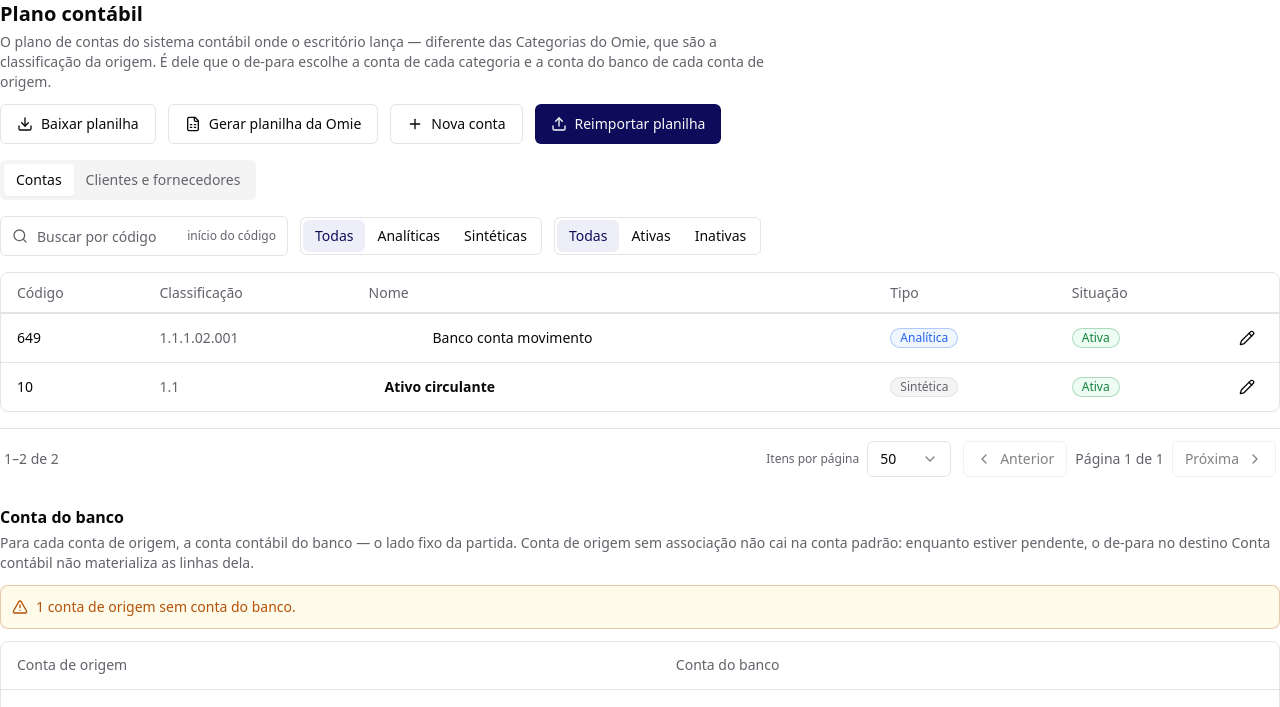
Test: conta manual (86e3nb816) › código com separador é recusado no formulário, sem request
This screenshot has width=1280, height=707.
Click the button "Nova conta": click(456, 124) [390,104,522,144]
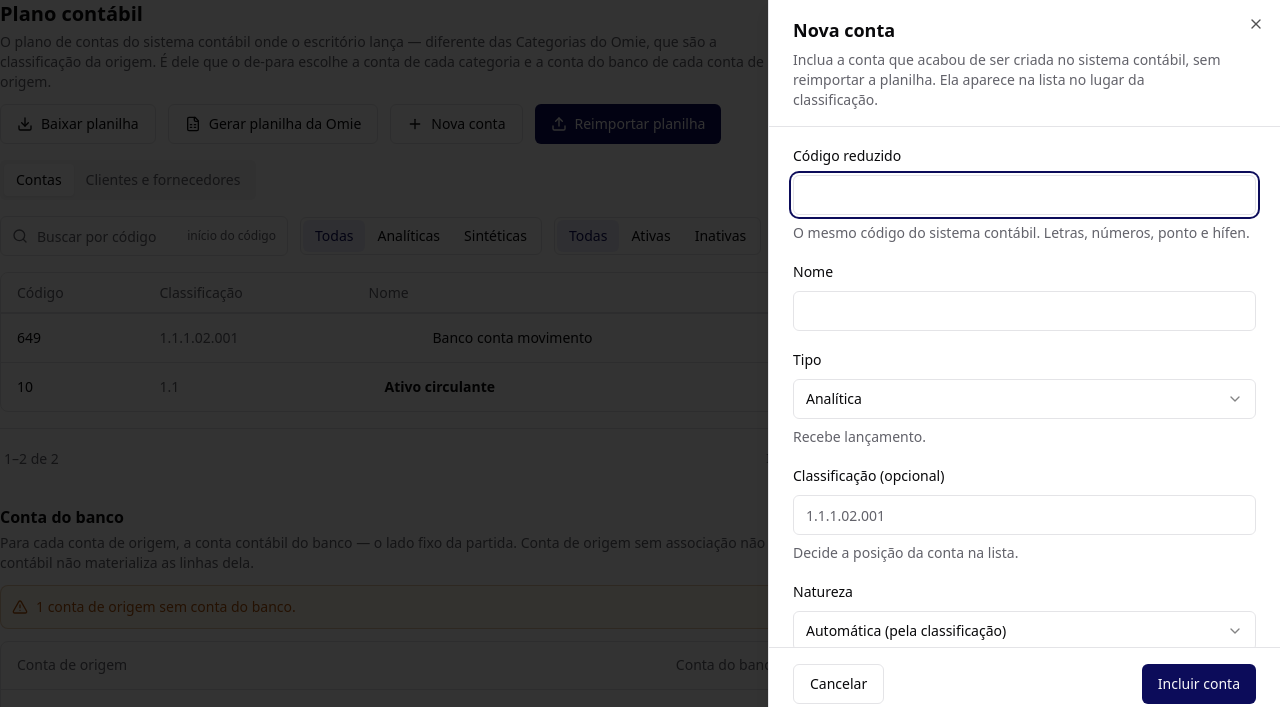
In the field labelled "Código reduzido": (1024, 195) [793,175,1256,215], type "66;3"
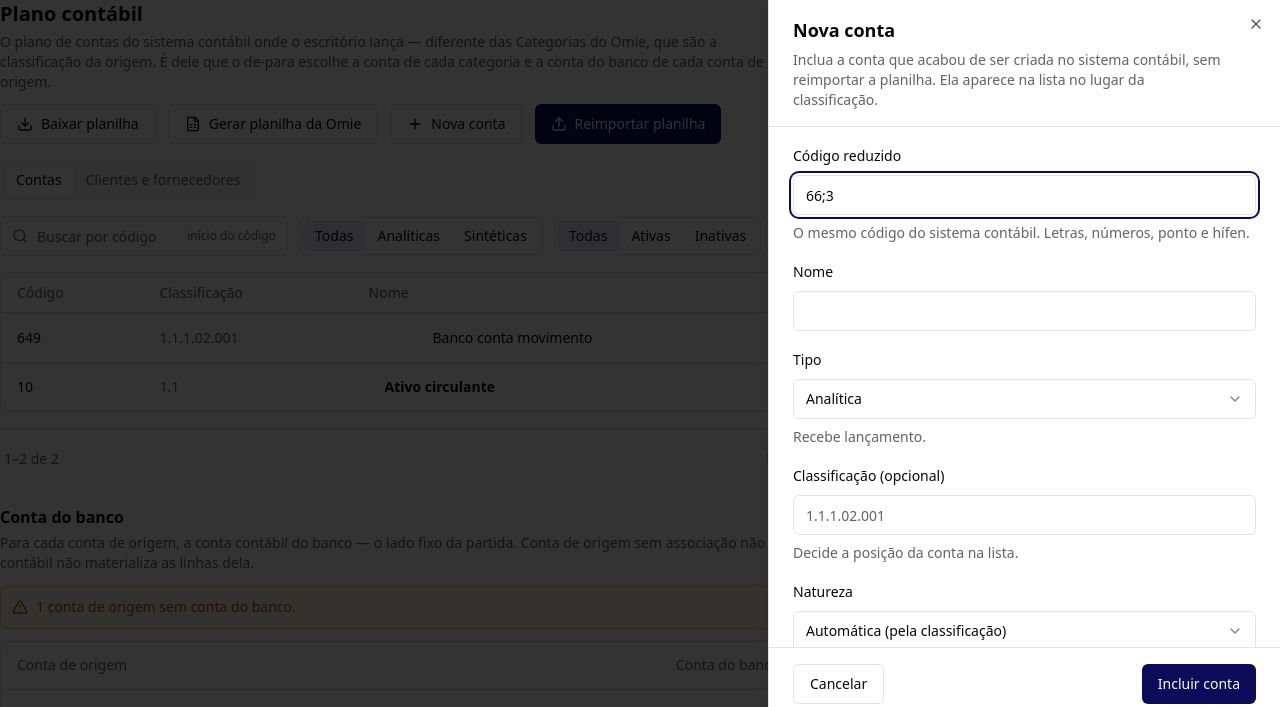
In the field labelled "Nome": (1024, 311) [793,291,1256,331], type "Conta"
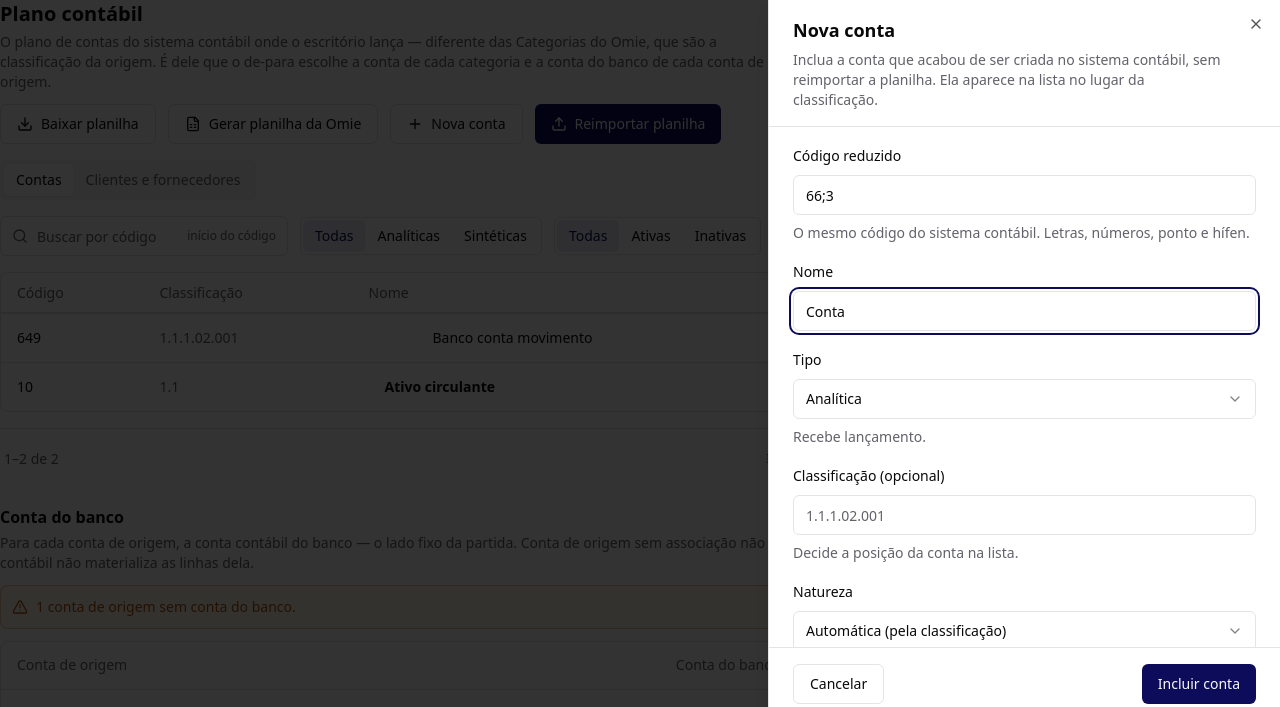
Click the button "Incluir conta": click(1199, 684) [1142,664,1256,704]
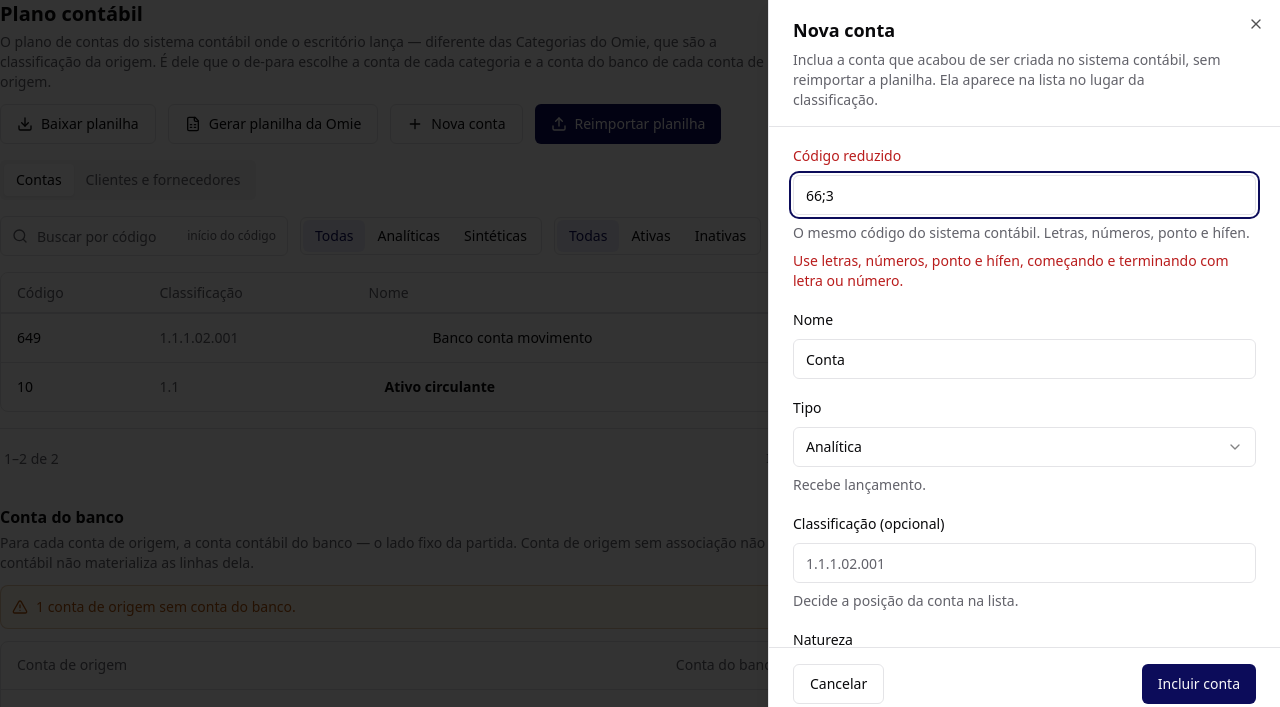
Now the text "Use letras, números, ponto e hífen" is shown, box [793,251,1229,290]
